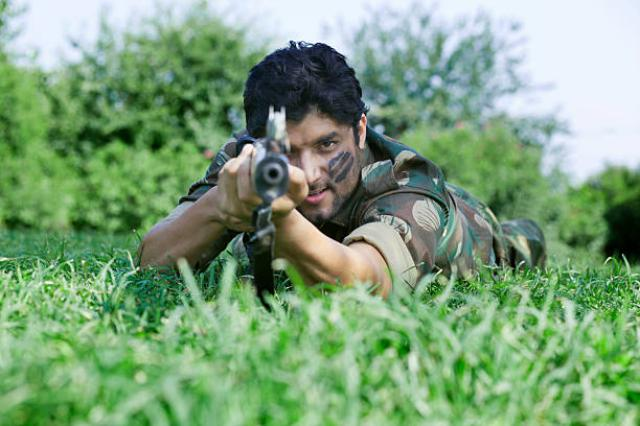other: (142, 48, 544, 272)
